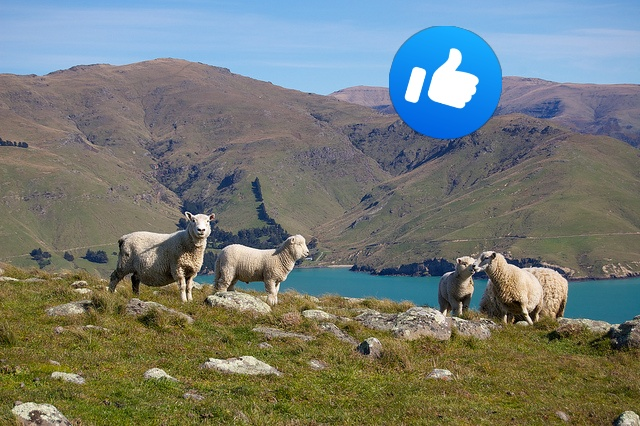like: (389, 26, 502, 139)
